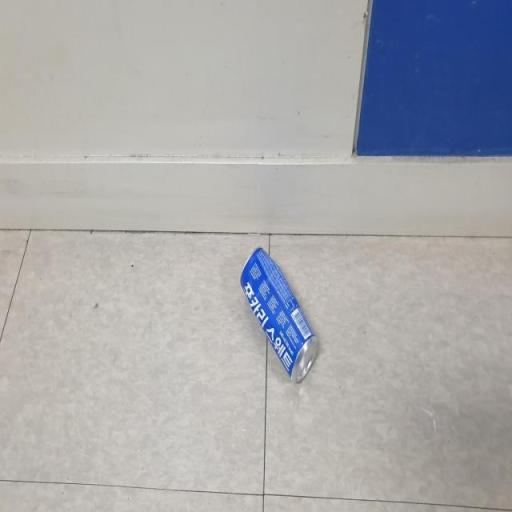metal: (232, 222, 324, 400)
